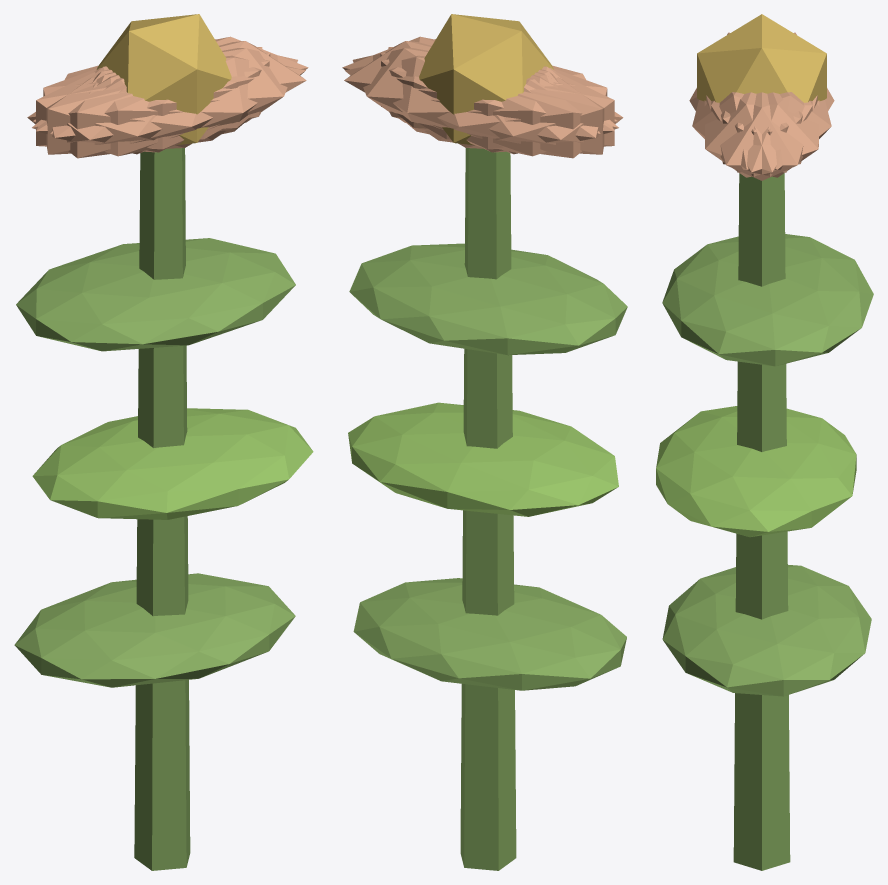
Rendered from nauclea-orientalis.glb.
The picture shows the model from 3 angles, left to right: view 1: azimuth 30°, elevation 25°; view 2: azimuth 150°, elevation 25°; view 3: azimuth 270°, elevation 25°; orthographic projection.
Parts seen in each view (by area): view 1: stem, leaf2, leaf1, leaf0, center, petal1, petal6, petal2, petal5, petal7, petal0, petal4 (+2 smaller); view 2: stem, leaf2, leaf0, leaf1, center, petal8, petal3, petal7, petal4, petal2, petal0, petal5 (+2 smaller); view 3: stem, leaf2, leaf1, leaf0, center, petal0, petal4, petal5, petal1, petal8.
Boxes of the visible parts, x1,y1,x2,y2 form: stem: (134, 148, 190, 870); leaf2: (16, 238, 295, 351); leaf1: (32, 408, 313, 519); leaf0: (14, 573, 295, 687); center: (96, 14, 231, 145); petal1: (32, 55, 305, 156); petal6: (27, 68, 225, 158); petal2: (46, 47, 262, 154); petal5: (50, 48, 297, 149); petal7: (36, 52, 270, 152); petal0: (96, 41, 306, 139); petal4: (33, 36, 308, 131); stem: (460, 148, 516, 870); leaf2: (349, 243, 627, 355); leaf0: (353, 578, 626, 690); leaf1: (348, 402, 618, 516); center: (419, 14, 553, 145); petal8: (345, 55, 618, 156); petal3: (425, 68, 623, 158); petal7: (388, 47, 604, 154); petal4: (352, 48, 600, 149); petal2: (380, 52, 614, 152); petal0: (344, 41, 554, 139); petal5: (342, 36, 617, 131); stem: (733, 173, 790, 870); leaf2: (662, 234, 873, 366); leaf1: (656, 406, 856, 537); leaf0: (662, 565, 871, 696); center: (697, 14, 826, 102); petal0: (706, 92, 817, 180); petal4: (711, 92, 819, 177); petal5: (704, 92, 812, 177); petal1: (692, 92, 802, 169); petal8: (721, 92, 831, 169).
Size of the model in its own units: 0.1452 by 0.4302 by 0.1027.
